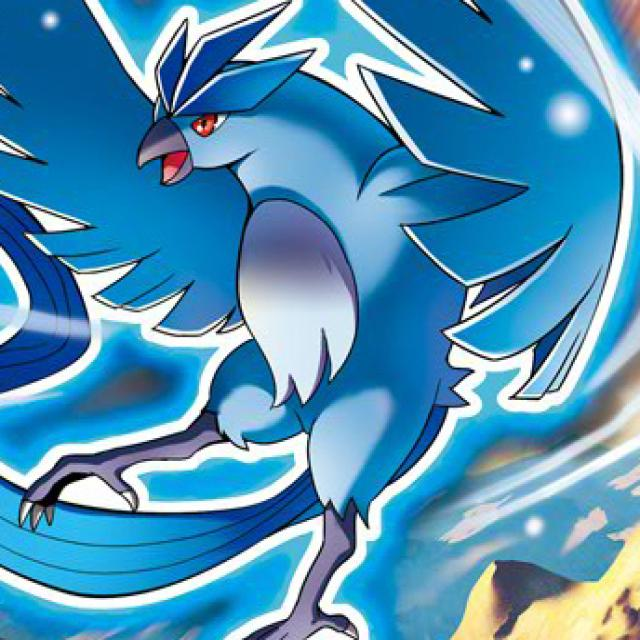Articuno: (32, 15, 531, 580)
